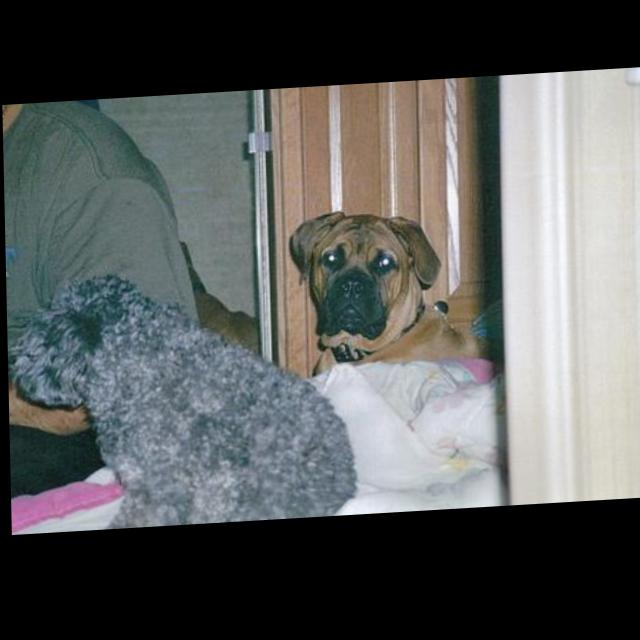bullmastiff: (288, 207, 505, 397)
other_dog_breed: (6, 264, 358, 536)
person: (3, 97, 203, 510)
